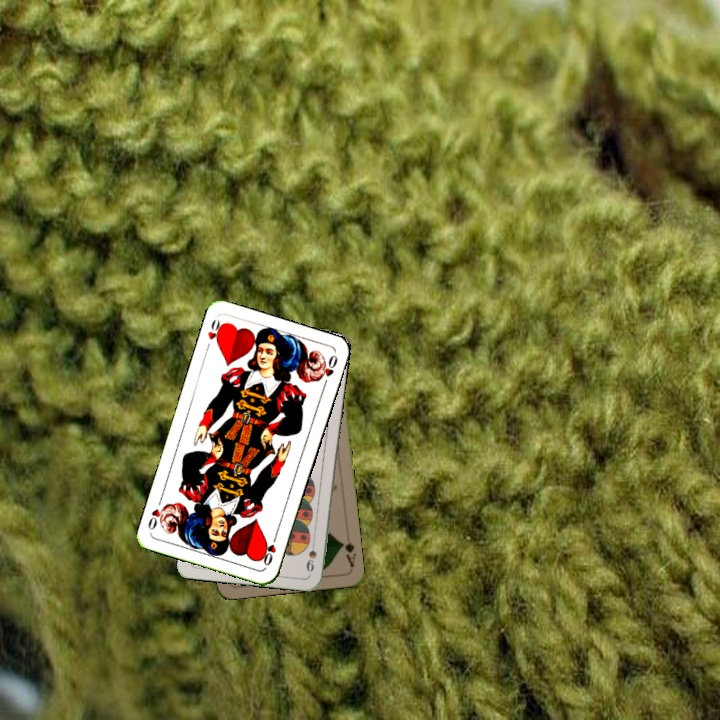GA: (337, 538, 358, 569)
HO: (202, 315, 227, 353), (259, 530, 280, 568)
S9: (302, 535, 319, 575)
